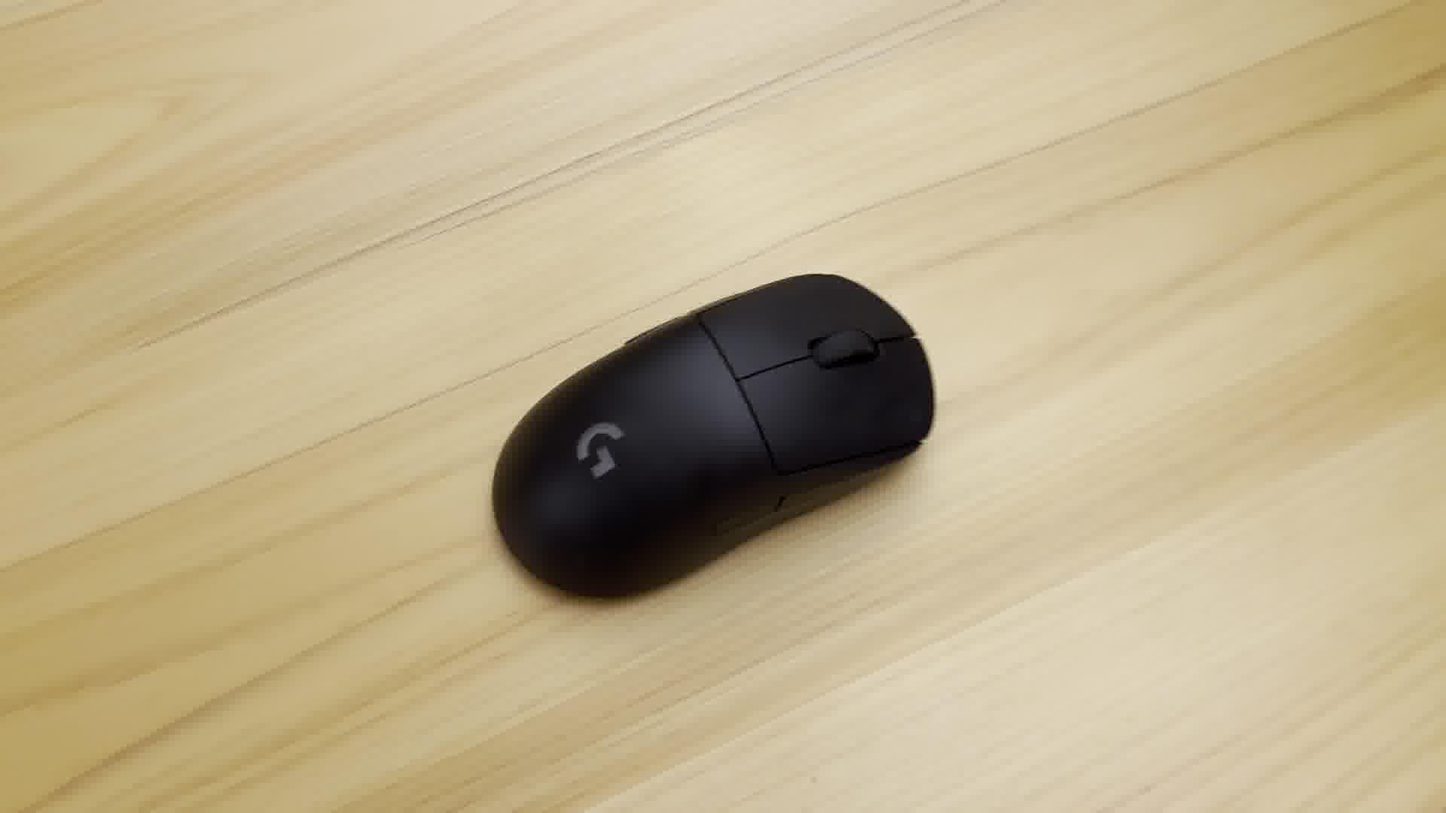mouse: (486, 265, 944, 614)
